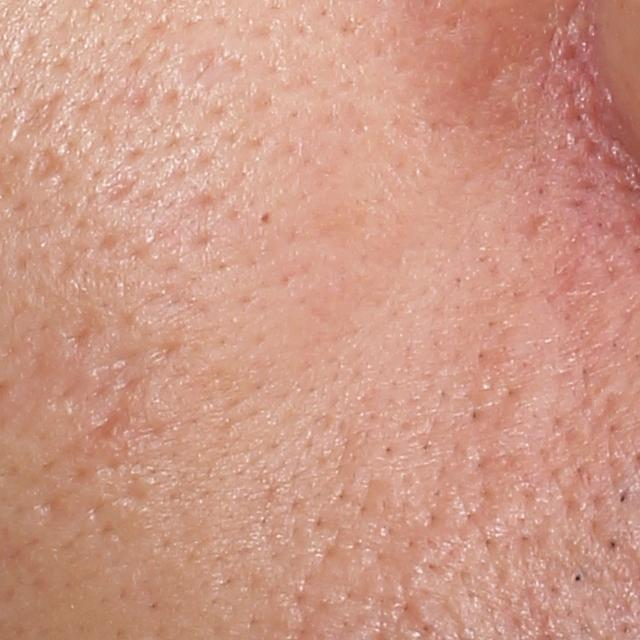atrophic_scar: (11, 86, 73, 143), (178, 46, 244, 94), (82, 402, 130, 444), (26, 143, 67, 189), (62, 307, 101, 351), (510, 209, 554, 246)
comedo: (255, 207, 277, 231)
